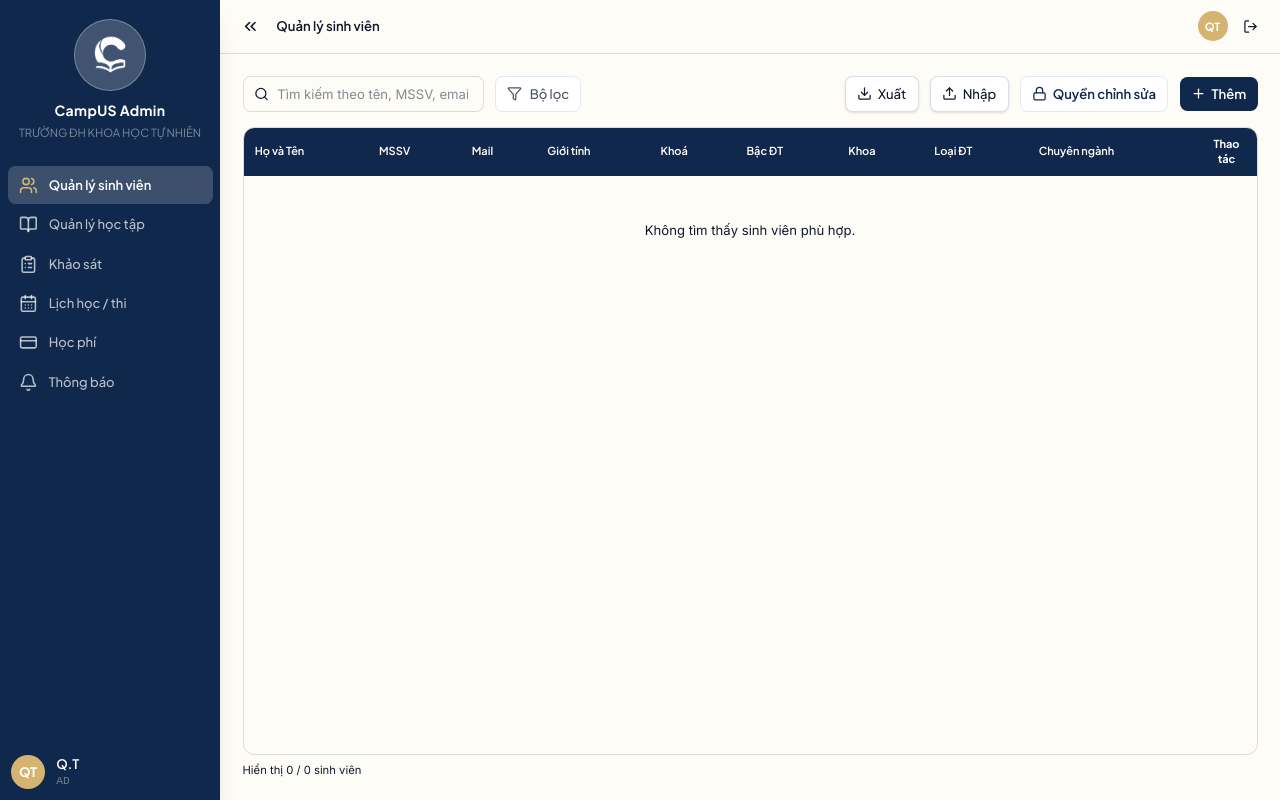
Test: Unit Test: Manage Courses (UC 2.16) › [TC_2.16_01 & TC_2.16_03]: Verify grid rendering and filtering
Click the button "Quản lý học tập".
click(110, 225)  # box [8, 206, 212, 243]
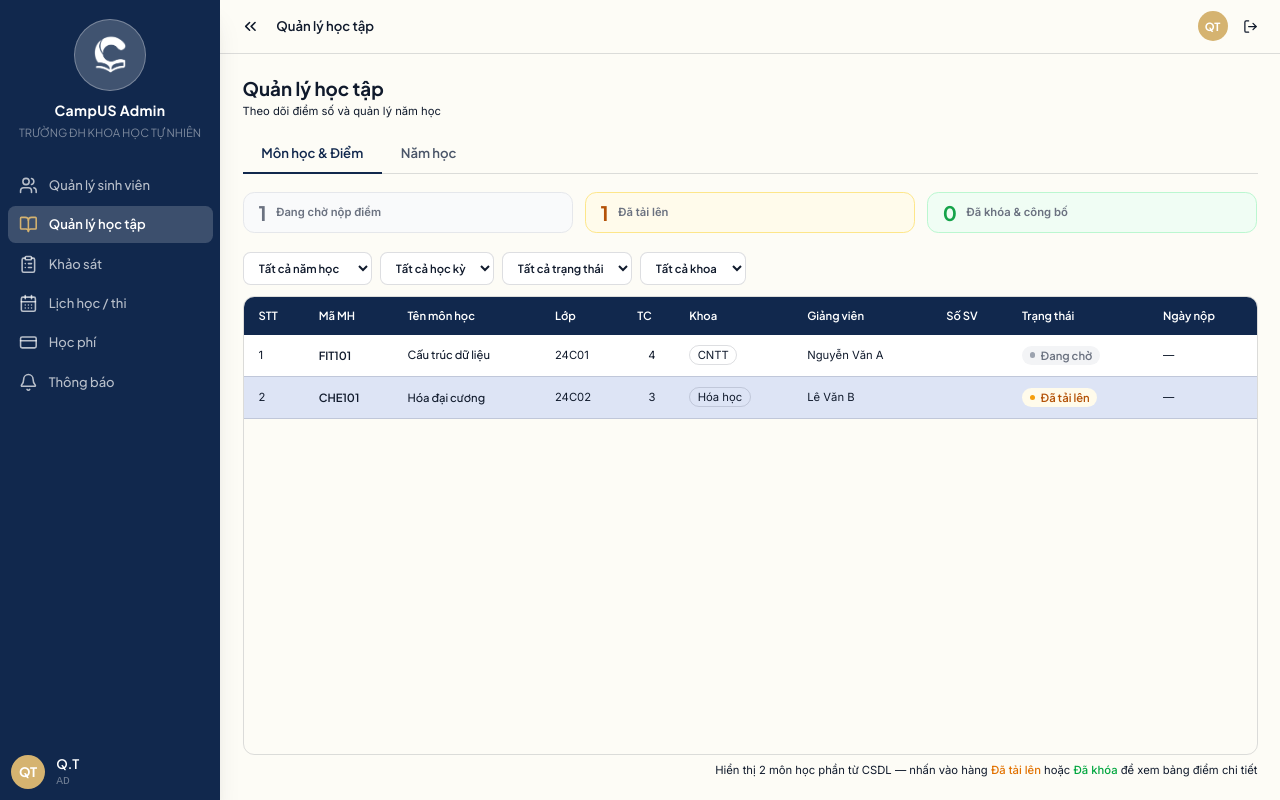
Check: the text "Cấu trúc dữ liệu" is shown, box [407, 347, 490, 361]
Check: the text "Hóa đại cương" is shown, box [407, 390, 485, 404]
Select "Hóa học" in the 4th dropdown showing "Tất cả khoa" at (693, 268), box [640, 252, 746, 285]
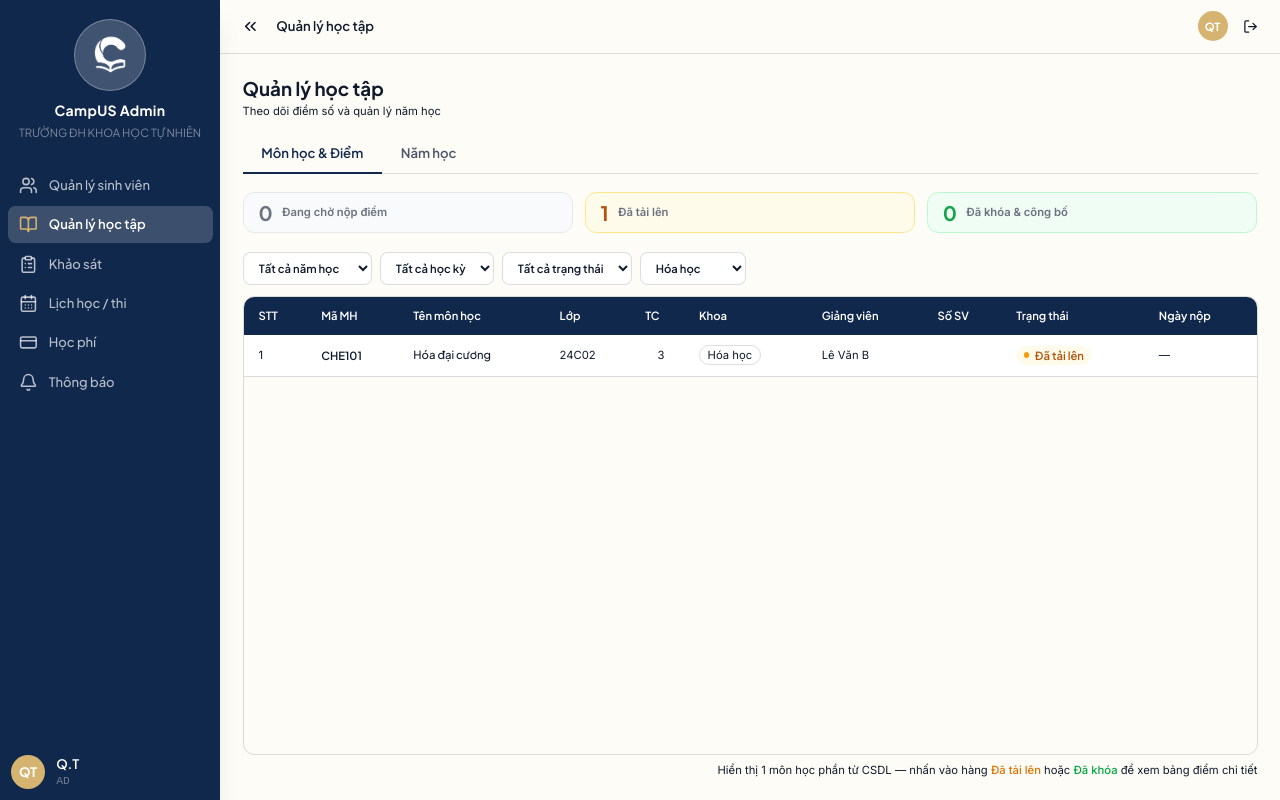
Check: the text "Hóa đại cương" is shown, box [413, 347, 491, 361]
Check: the text "Cấu trúc dữ liệu" is gone
